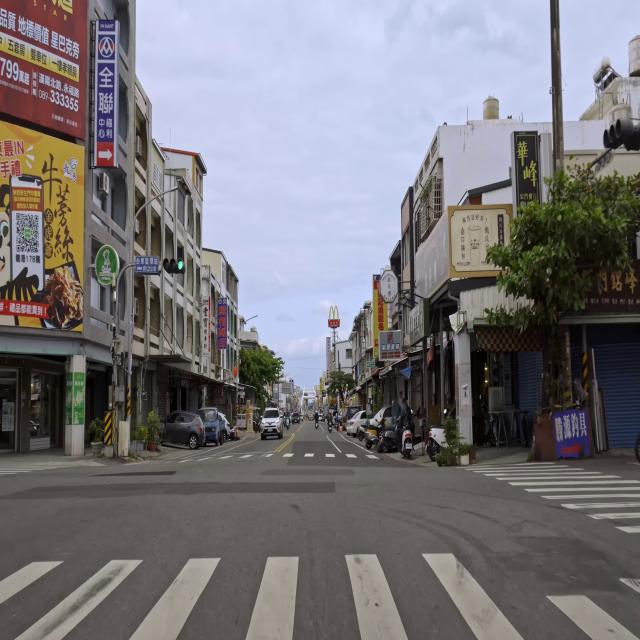green light: (162, 258, 187, 275)
